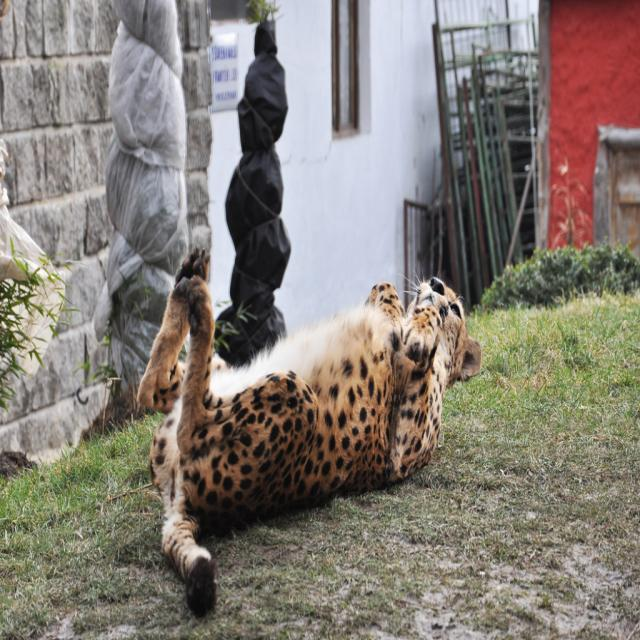Cheetah: (134, 238, 489, 612)
